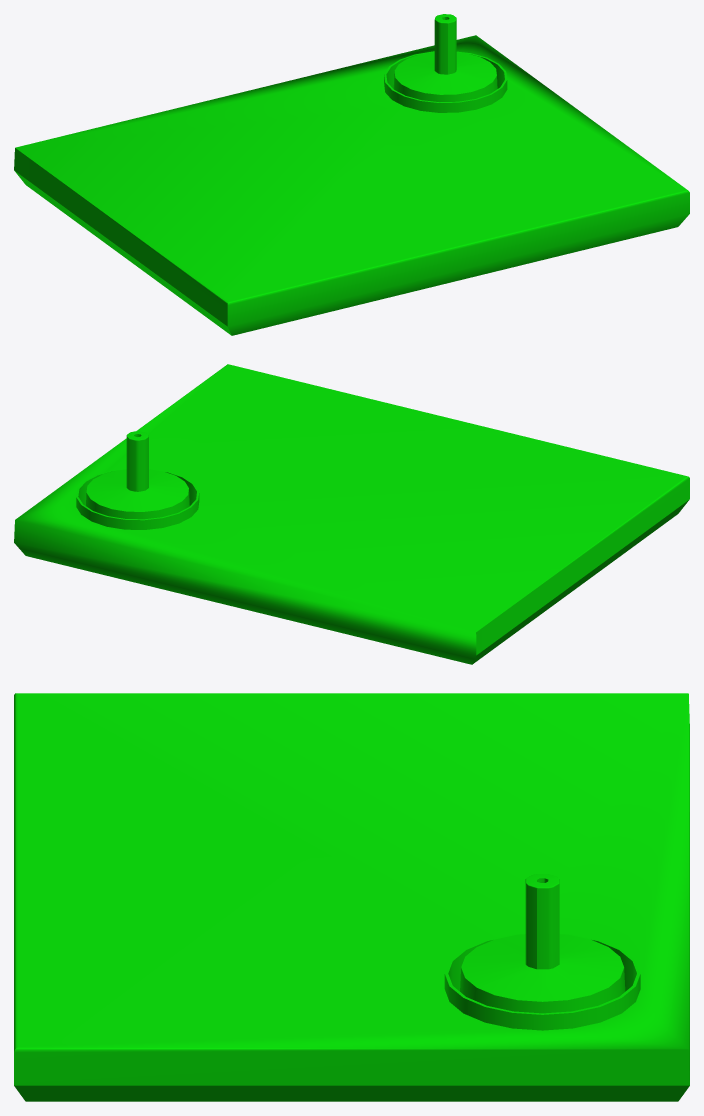
3 views of the same model, one above another, from view 1: azimuth 30°, elevation 25°; view 2: azimuth 150°, elevation 25°; view 3: azimuth 270°, elevation 25° (orthographic). The views are drawn at different scales.
Visible parts, largest first — view 1: Base; view 2: Base; view 3: Base.
Part boxes in pixels (left/top/right/bottom): Base: left=14, top=14, right=689, bottom=335; Base: left=14, top=364, right=689, bottom=664; Base: left=14, top=693, right=689, bottom=1101.
Bounding box in the file's own units: 104 × 22.68 × 82.87.
